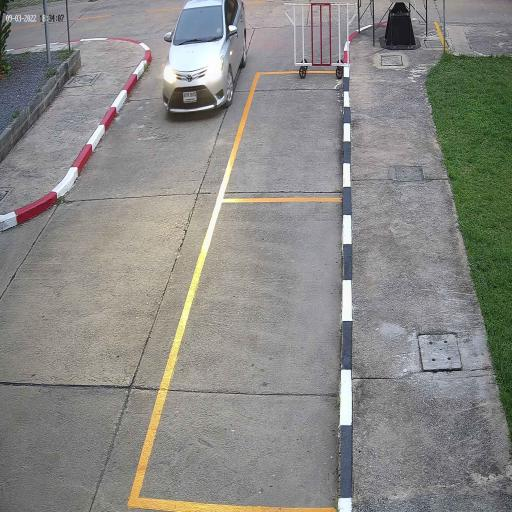car: (162, 0, 248, 115)
